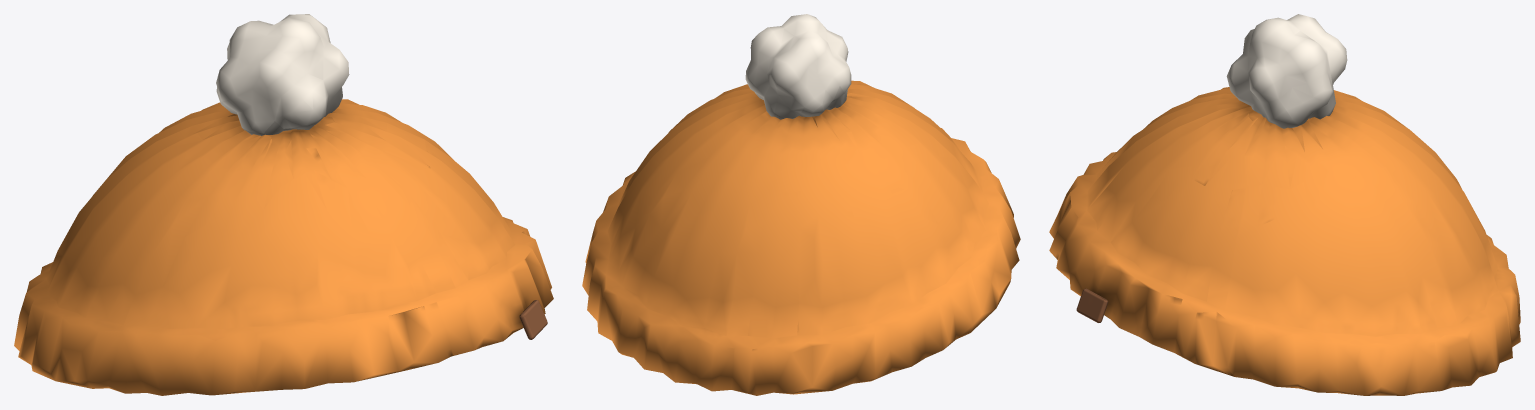
The model's file is hat_beanie.glb.
3 views of the same model, side by side, from view 1: azimuth 30°, elevation 25°; view 2: azimuth 150°, elevation 25°; view 3: azimuth 270°, elevation 25° (orthographic). The views are drawn at different scales.
Parts seen in each view (by area): view 1: hat_beanie, Pom; view 2: hat_beanie, Pom; view 3: hat_beanie, Pom.
Part boxes in pixels (x1=…): hat_beanie: x1=14, y1=99, x2=553, y2=395; Pom: x1=216, y1=14, x2=349, y2=135; hat_beanie: x1=582, y1=80, x2=1020, y2=395; Pom: x1=745, y1=14, x2=851, y2=119; hat_beanie: x1=1049, y1=87, x2=1520, y2=395; Pom: x1=1226, y1=14, x2=1347, y2=128.
Bounding box in the file's own units: 0.6358 × 0.4596 × 0.627.
Materials: 3 (3 with a texture image).
